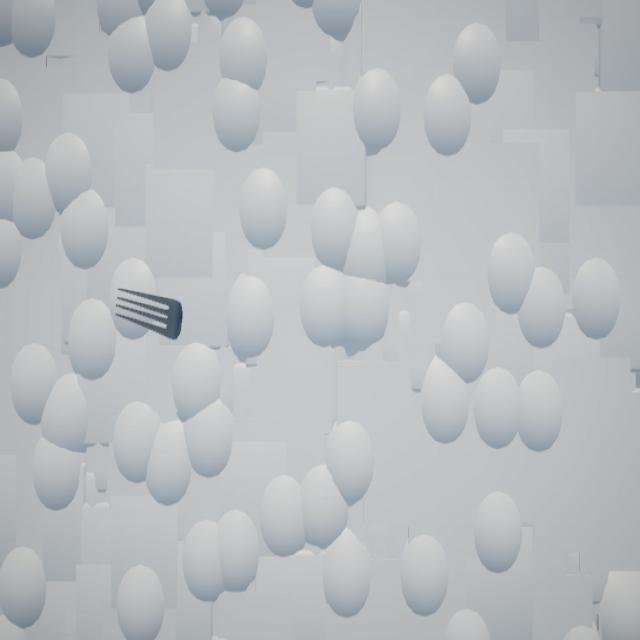top_folk: (116, 289, 184, 342)
